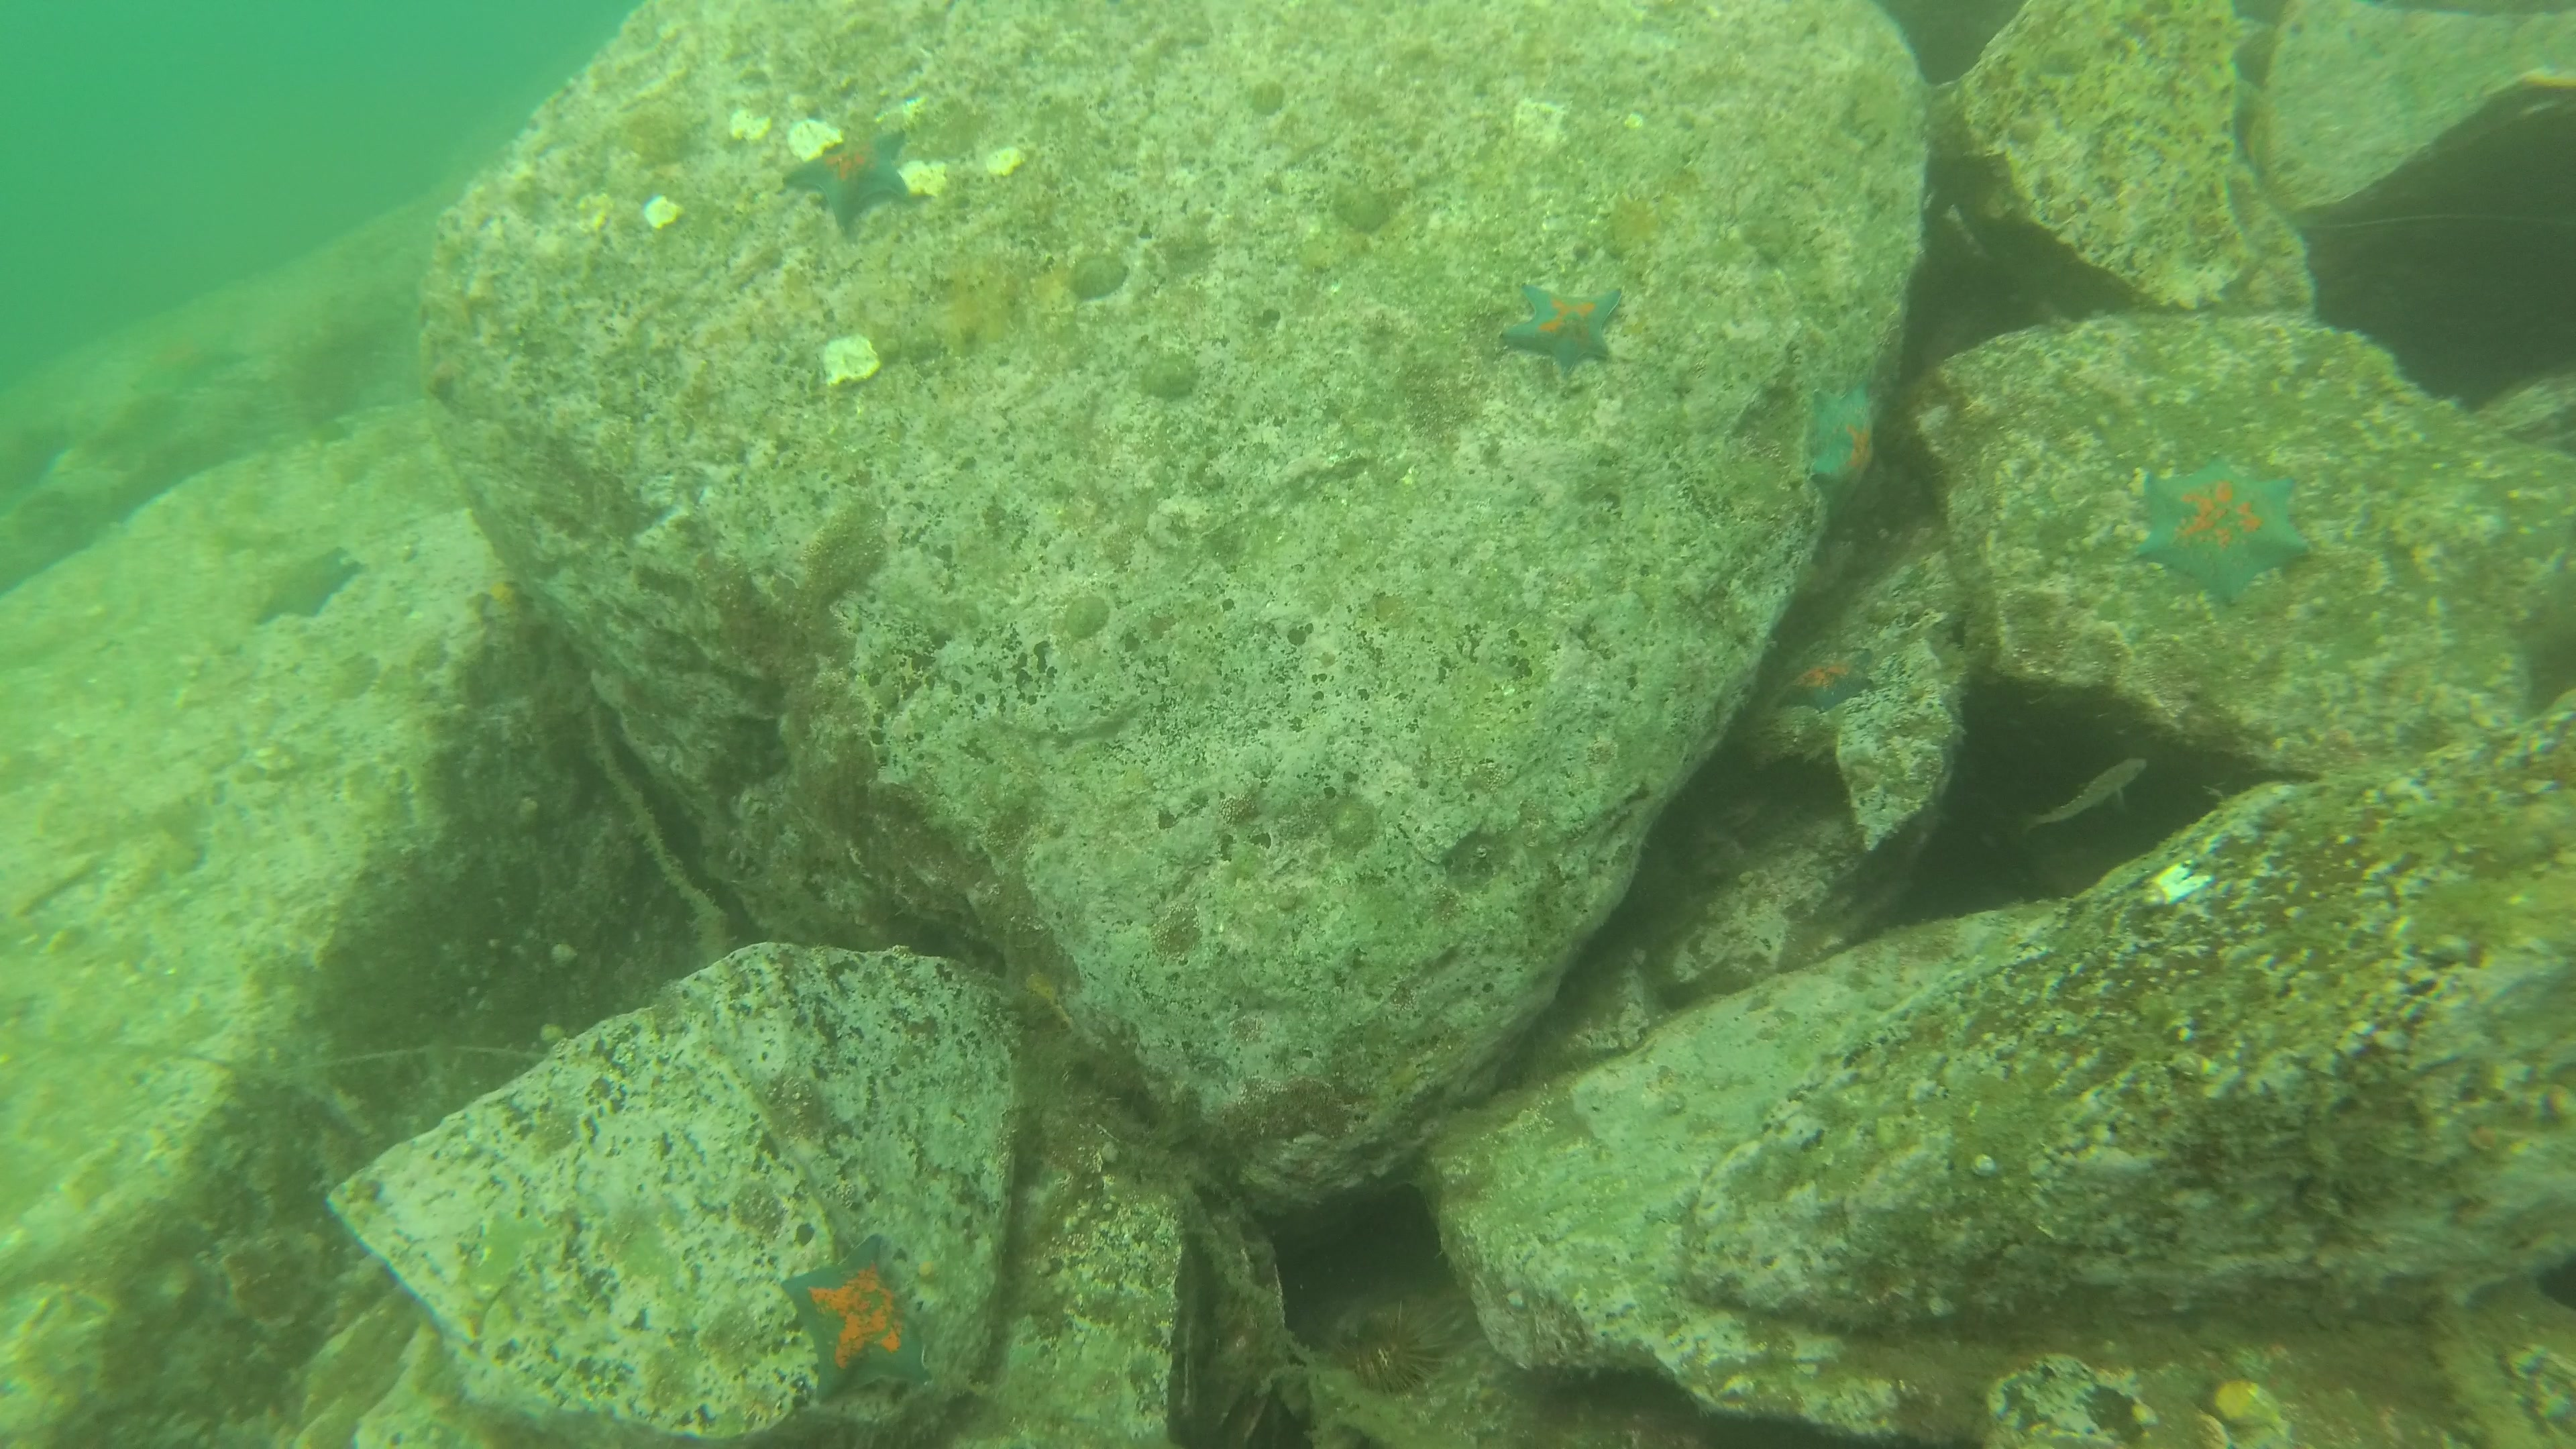echinus: (1327, 1302, 1454, 1396)
starfish: (2132, 460, 2314, 607), (778, 1235, 927, 1382), (784, 134, 909, 228), (1504, 285, 1622, 366), (255, 547, 361, 626), (1806, 384, 1875, 502), (133, 333, 251, 393), (1776, 649, 1874, 713)
